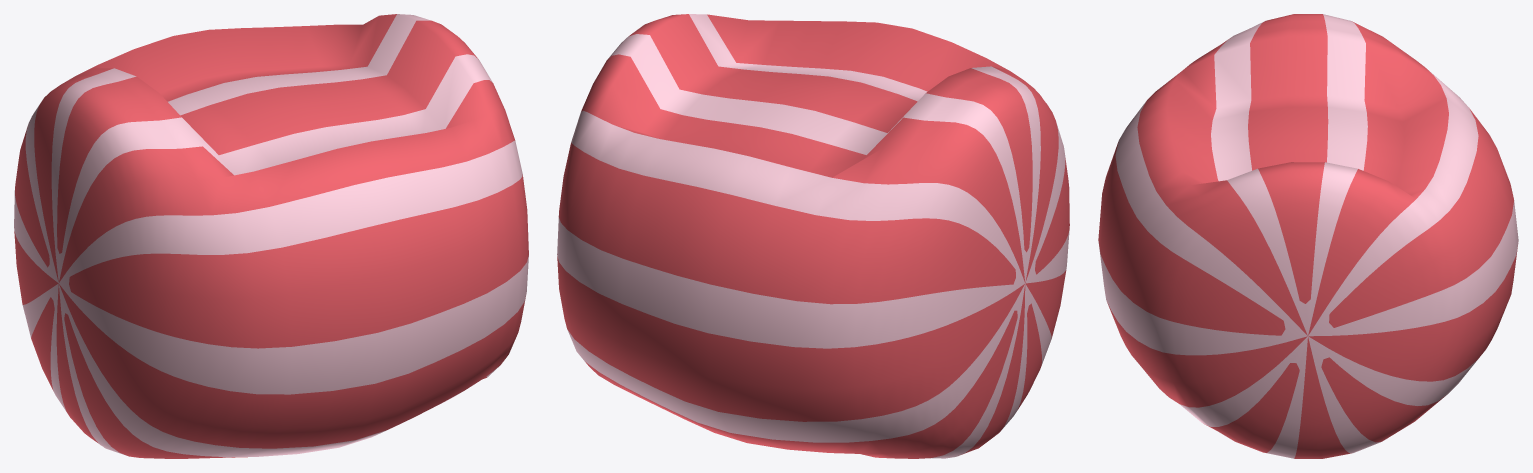
File: CaramelRedWhiteCandy.fbx
3 renders of one model, left to right at view 1: azimuth 30°, elevation 25°; view 2: azimuth 150°, elevation 25°; view 3: azimuth 270°, elevation 25°, orthographic. The views are drawn at different scales.
Parts seen in each view (by area): view 1: CaramelCandy; view 2: CaramelCandy; view 3: CaramelCandy.
Part boxes in pixels (x1=…): CaramelCandy: x1=14, y1=14, x2=528, y2=458; CaramelCandy: x1=557, y1=14, x2=1069, y2=458; CaramelCandy: x1=1098, y1=14, x2=1518, y2=458.
Bounding box in the file's own units: 112 × 89.85 × 112.
